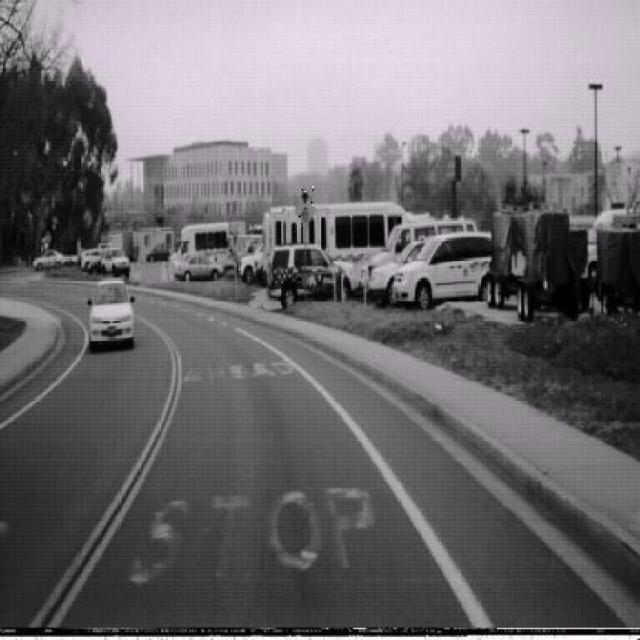stopAhead: (294, 187, 315, 230)
